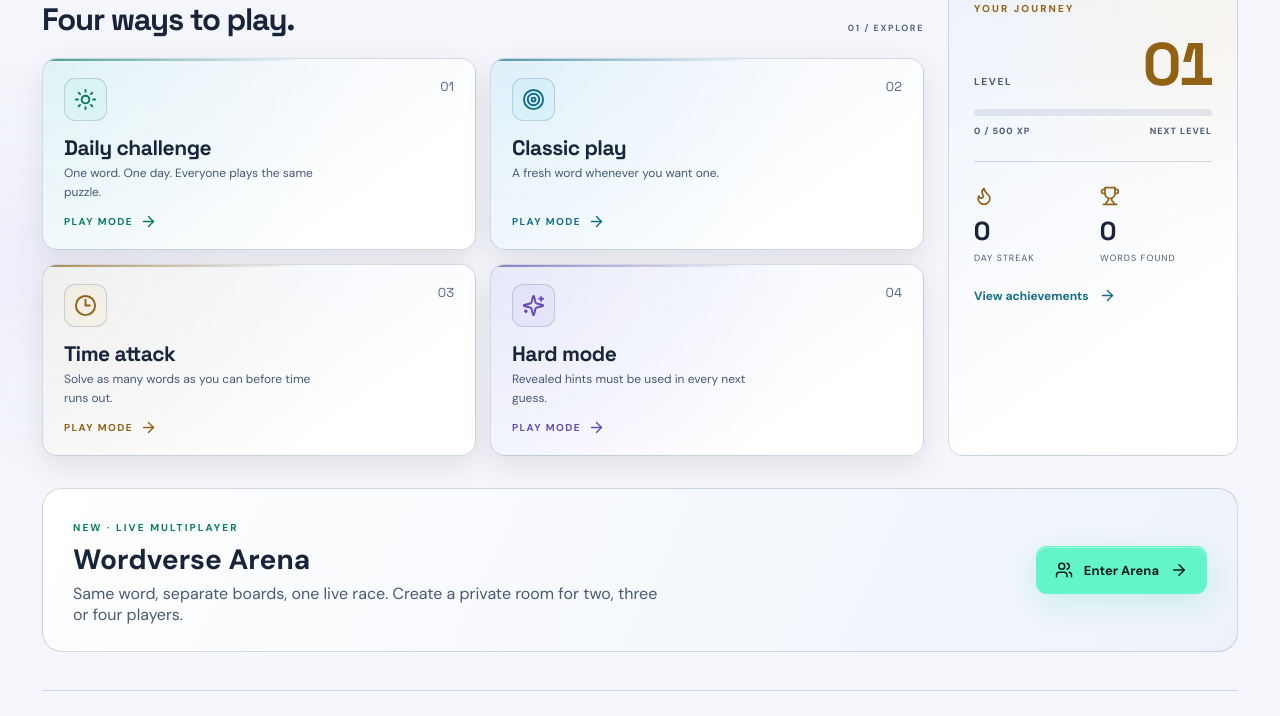
Test: interface flows › ends Time Attack when its countdown expires
(page scrolled)
Click the button "Time attack" at (86, 306), box [42,264,476,456]
Wait 90000 ms
(page scrolled)
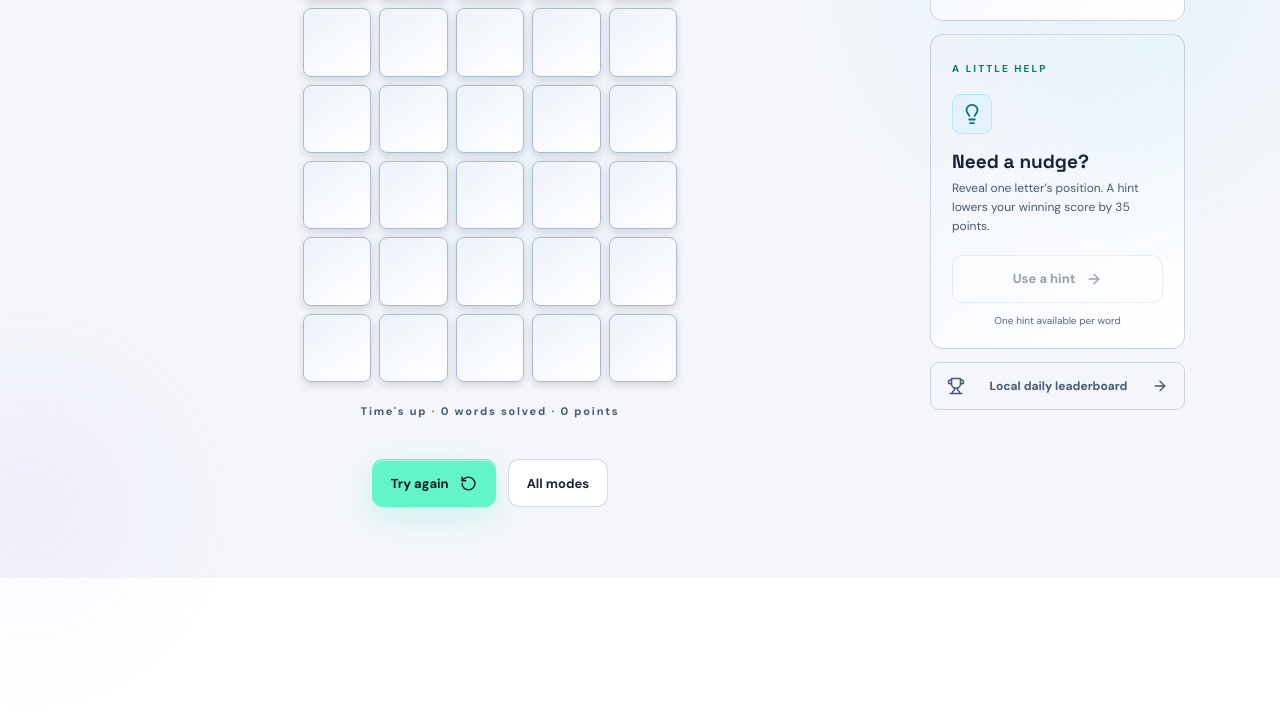
Result: the text "Time's up · 0 words solved · 0 points" is shown at [360,404,619,418]
